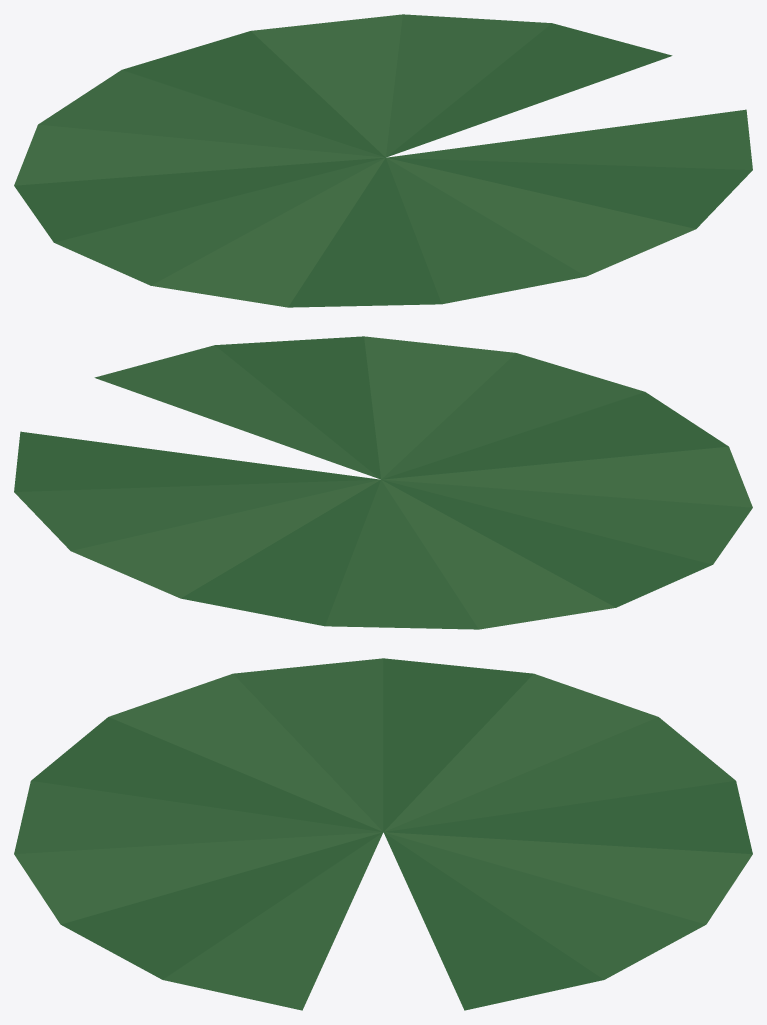
The model's file is lilypad_round_lod0.glb.
3 renders of one model, top to bottom at view 1: azimuth 30°, elevation 25°; view 2: azimuth 150°, elevation 25°; view 3: azimuth 270°, elevation 25°, orthographic. The views are drawn at different scales.
Parts seen in each view (by area): view 1: lilypad_round_lod0; view 2: lilypad_round_lod0; view 3: lilypad_round_lod0.
Part boxes in pixels (box(x1,y1,x2,y2)): lilypad_round_lod0: box(14, 14, 752, 307); lilypad_round_lod0: box(14, 336, 752, 629); lilypad_round_lod0: box(14, 658, 752, 1010).
Size of the model in its own units: 0.8496 by 0.005 by 0.7531.
